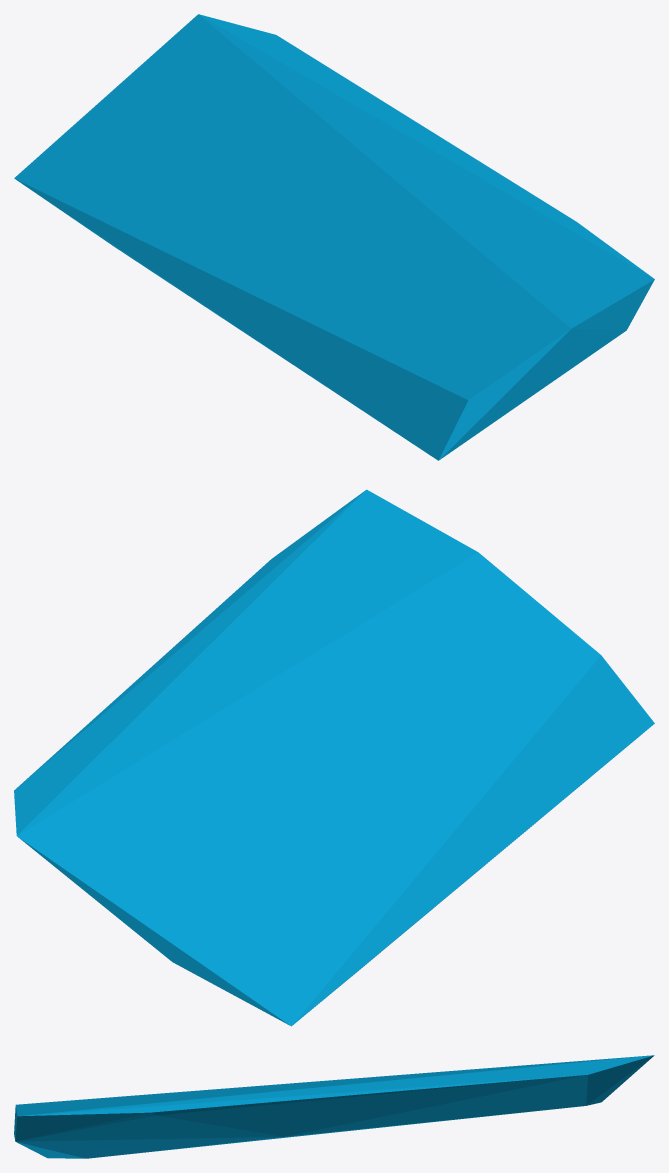
Rendered from shoulder-roll-housing-mirror_convex_piece_004.obj.
The picture shows the model from 3 angles, top to bottom: view 1: azimuth 30°, elevation 25°; view 2: azimuth 150°, elevation 25°; view 3: azimuth 270°, elevation 25°; orthographic projection. The views are drawn at different scales.
Size of the model in its own units: 0.0358 by 0.0176 by 0.0774.
